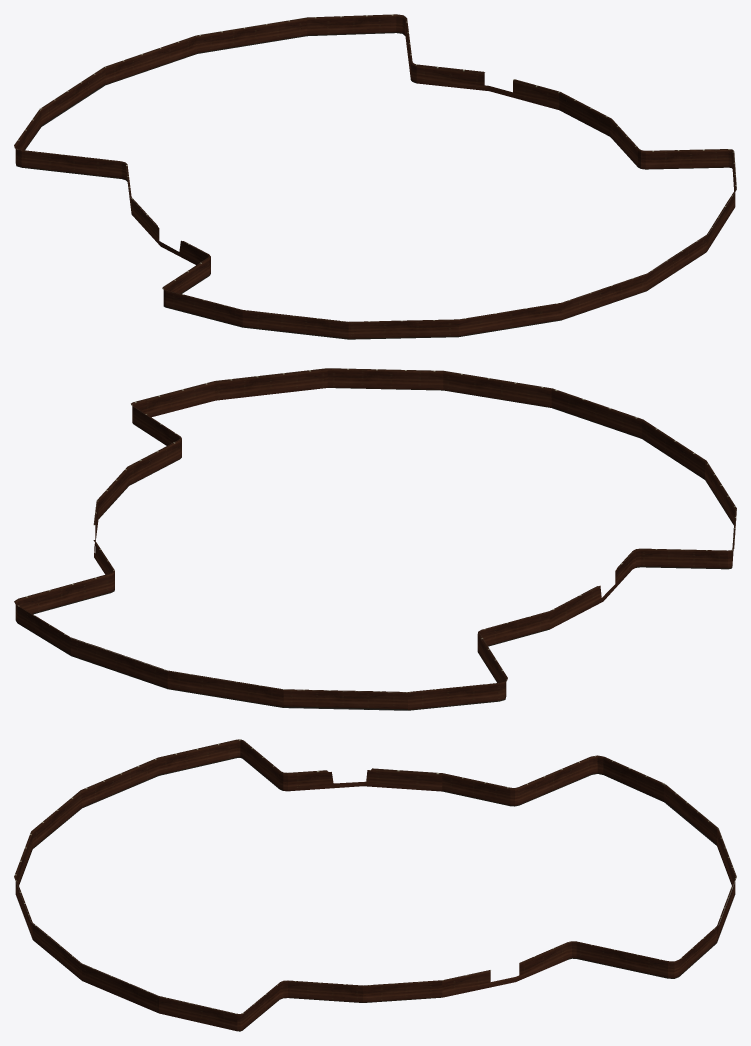
File: walls cutout.obj
The picture shows the model from 3 angles, top to bottom: view 1: azimuth 30°, elevation 25°; view 2: azimuth 150°, elevation 25°; view 3: azimuth 270°, elevation 25°; orthographic projection. The views are drawn at different scales.
Visible parts, largest first — view 1: VUT; view 2: VUT; view 3: VUT.
Part boxes in pixels (left/top/right/bottom): VUT: left=14, top=14, right=736, bottom=339; VUT: left=14, top=368, right=736, bottom=710; VUT: left=14, top=739, right=736, bottom=1031.
Size of the model in its own units: 182 by 5.59 by 202.
